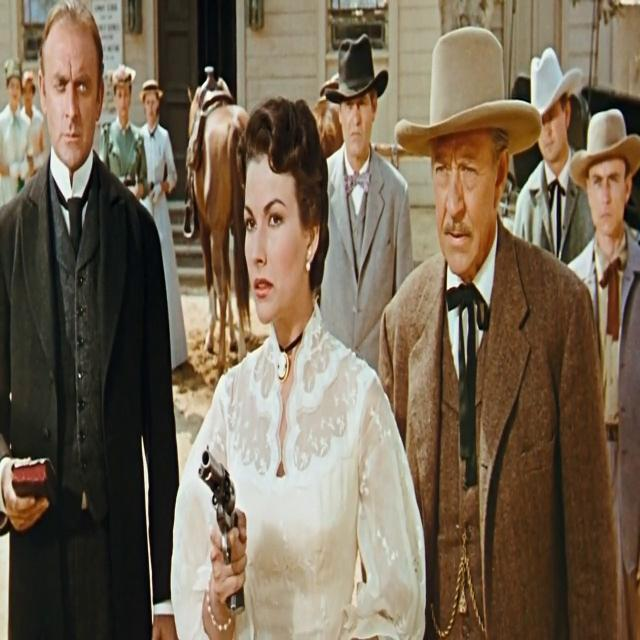gun-knife-thesis - v11 Yolov5 augmented: (198, 444, 258, 615)
